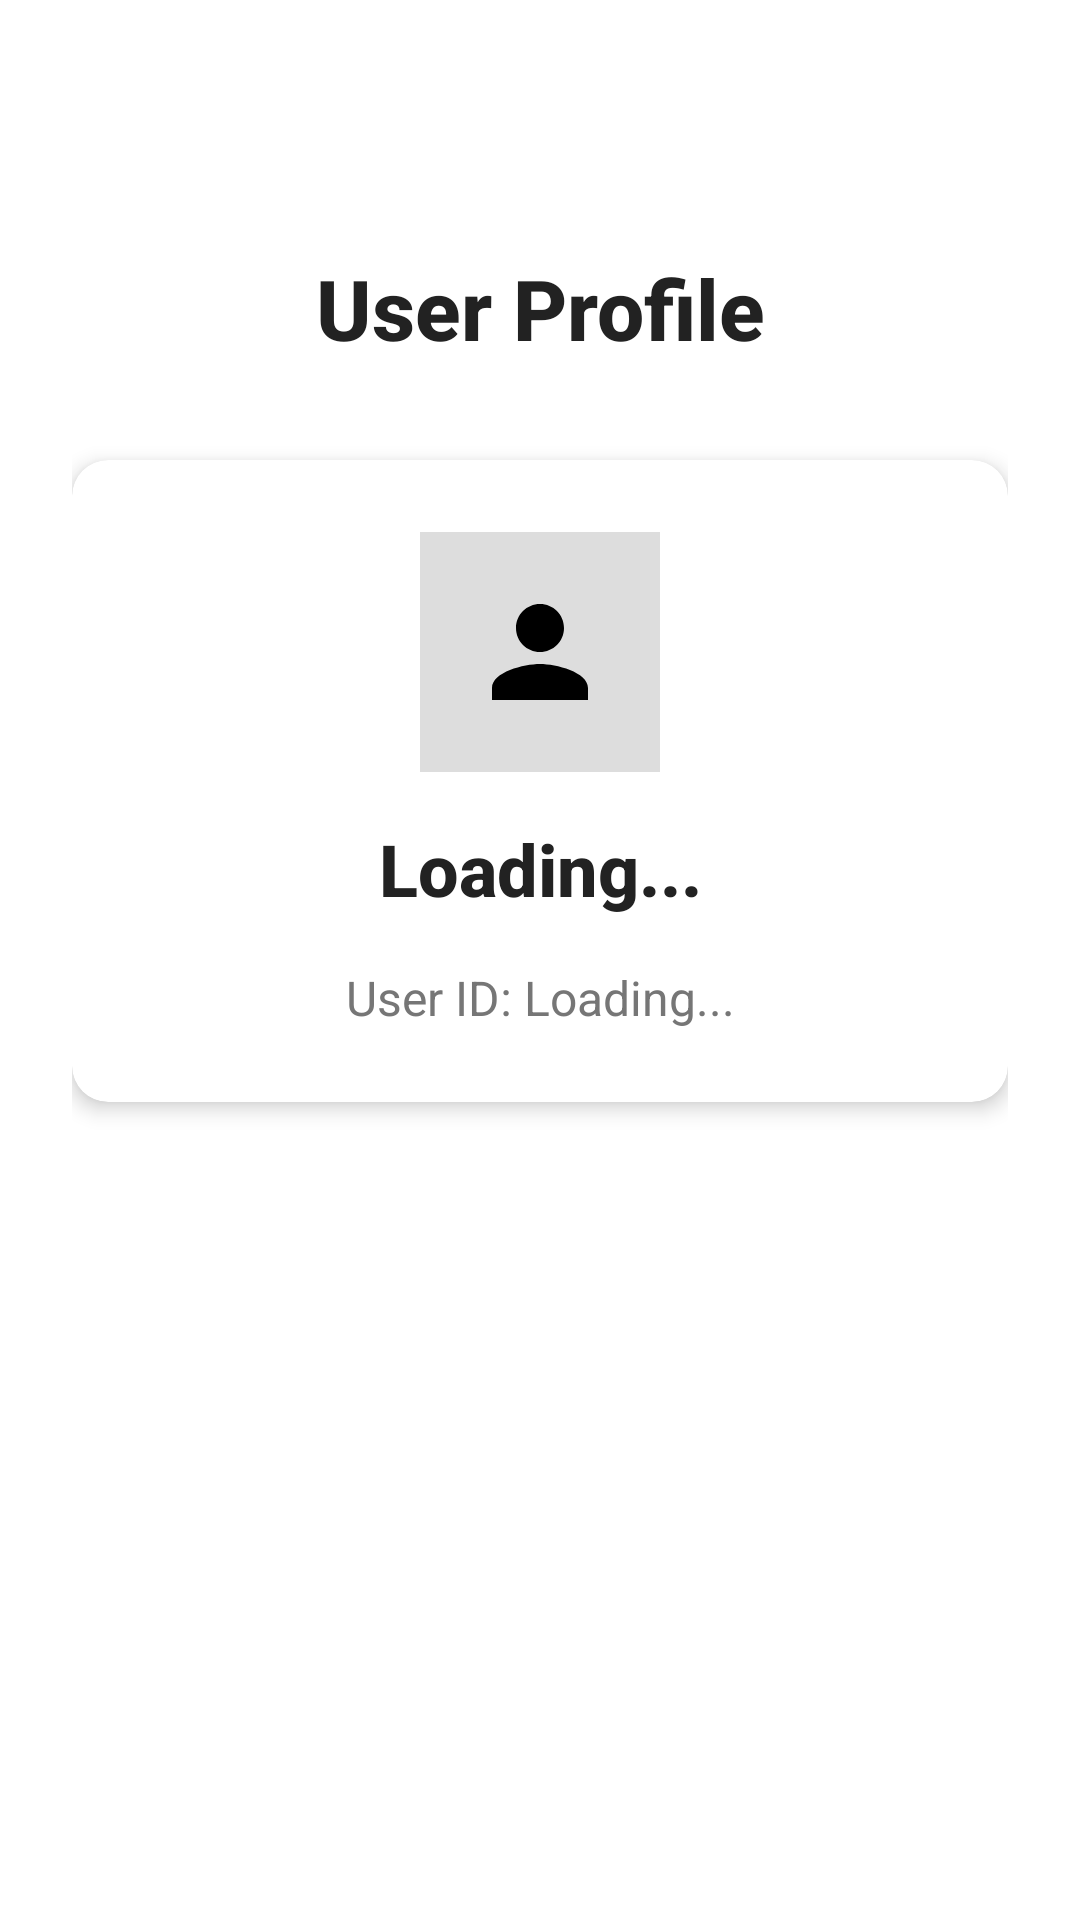

Where icons sit on this 1080 x 1920 app screen, as (x1, y1, x2, y2):
account: (420, 532, 660, 772)
